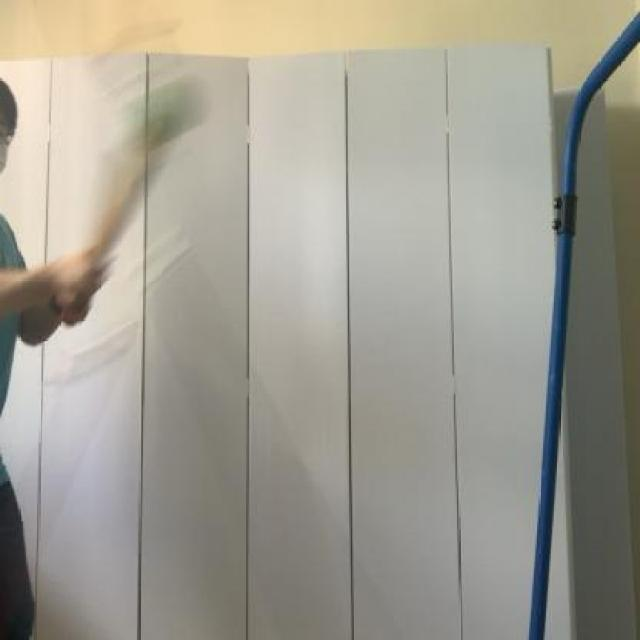baseball: (103, 64, 232, 161)
